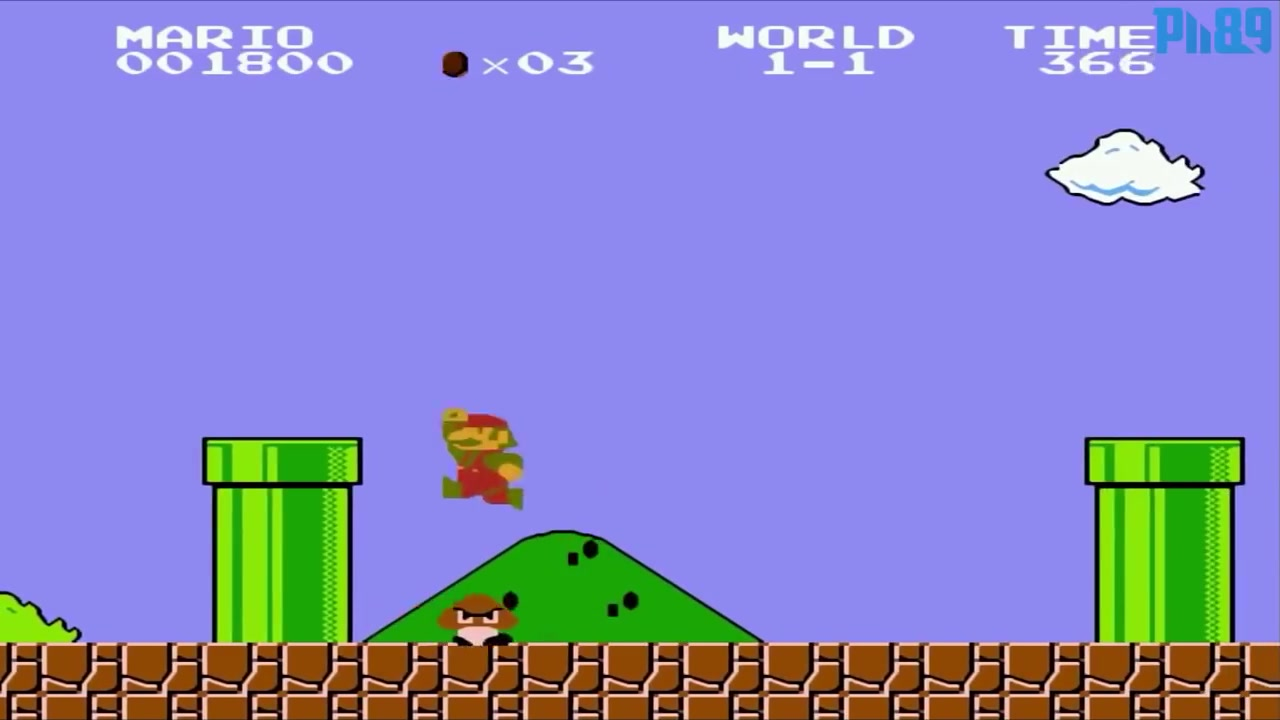mario: (428, 407, 533, 512)
